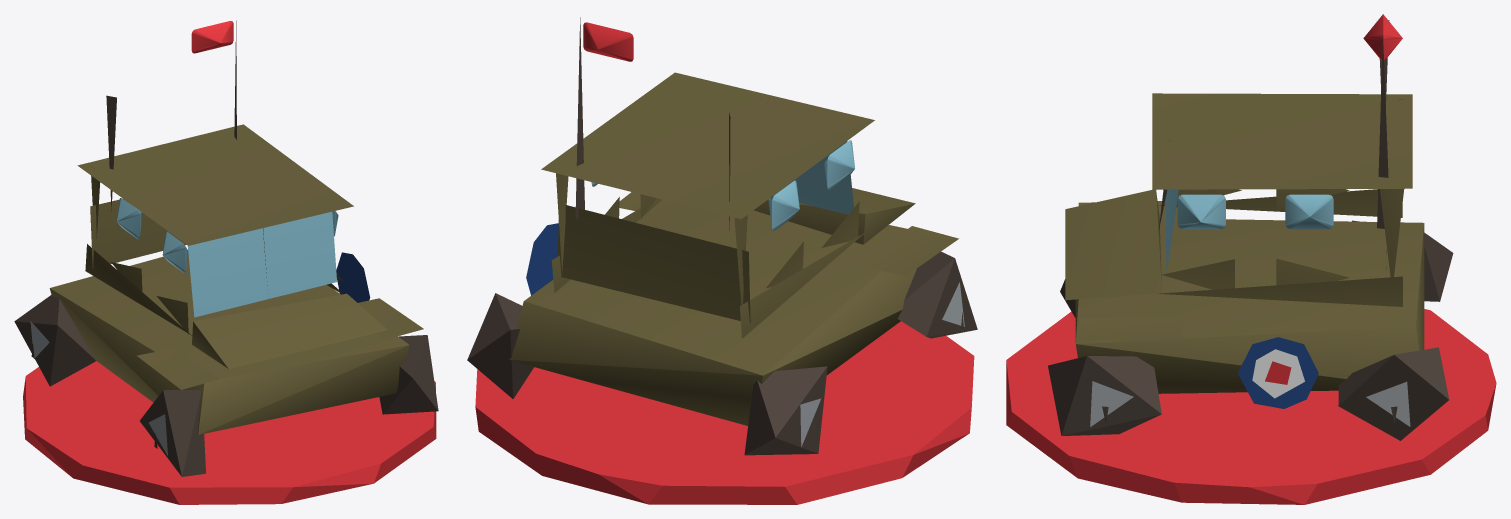
File: united_kingdom_commander_lod1.glb
3 views of the same model, side by side, from view 1: azimuth 30°, elevation 25°; view 2: azimuth 150°, elevation 25°; view 3: azimuth 270°, elevation 25° (orthographic). The views are drawn at different scales.
Visible parts, largest first — view 1: body_hull, base_pedestal; view 2: body_hull, base_pedestal; view 3: body_hull, base_pedestal.
Boxes of the visible parts, <box> form: body_hull: <box>14,20,438,476</box>; base_pedestal: <box>23,361,436,504</box>; body_hull: <box>467,17,977,455</box>; base_pedestal: <box>475,321,974,504</box>; body_hull: <box>1048,14,1453,440</box>; base_pedestal: <box>1006,309,1496,504</box>.
Bounding box in the file's own units: 0.7751 × 0.7101 × 0.7751.
